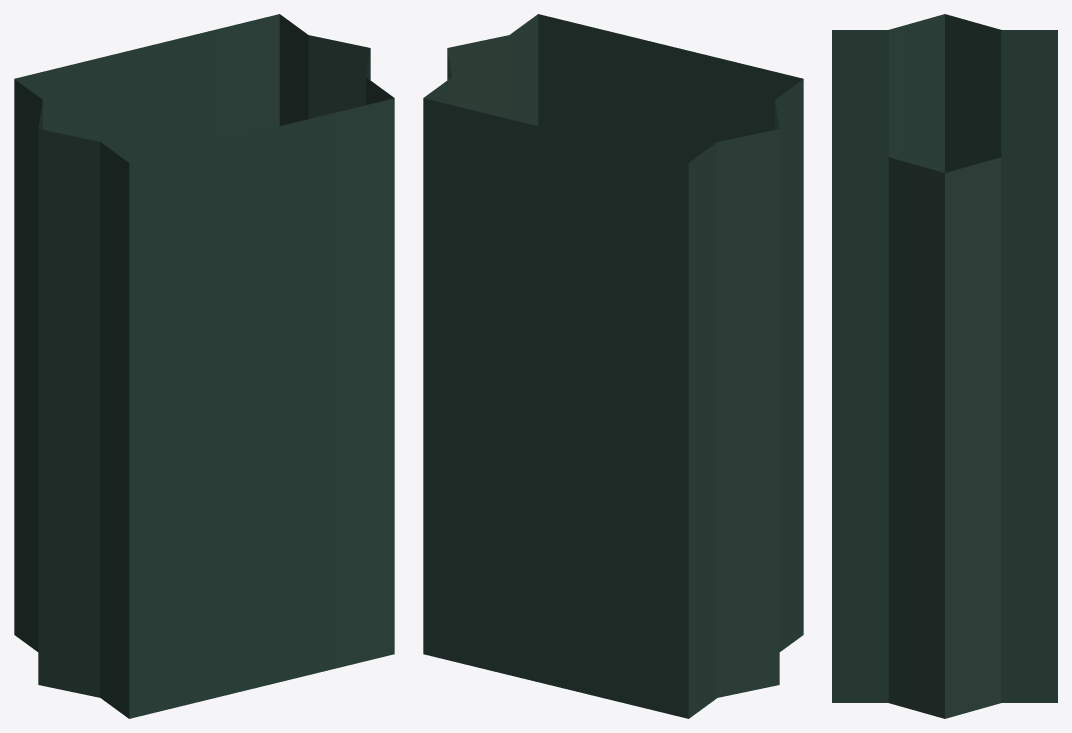
The model's file is SM_PillarMid_01.fbx.
3 views of the same model, side by side, from view 1: azimuth 30°, elevation 25°; view 2: azimuth 150°, elevation 25°; view 3: azimuth 270°, elevation 25° (orthographic).
Parts seen in each view (by area): view 1: SM_PillarMid_01; view 2: SM_PillarMid_01; view 3: SM_PillarMid_01.
Part boxes in pixels (x1=…): SM_PillarMid_01: x1=14, y1=14, x2=394, y2=718; SM_PillarMid_01: x1=423, y1=14, x2=803, y2=718; SM_PillarMid_01: x1=832, y1=14, x2=1057, y2=718.
Bounding box in the file's own units: 250 × 400 × 150.
Materials: 1 (1 with a texture image).
